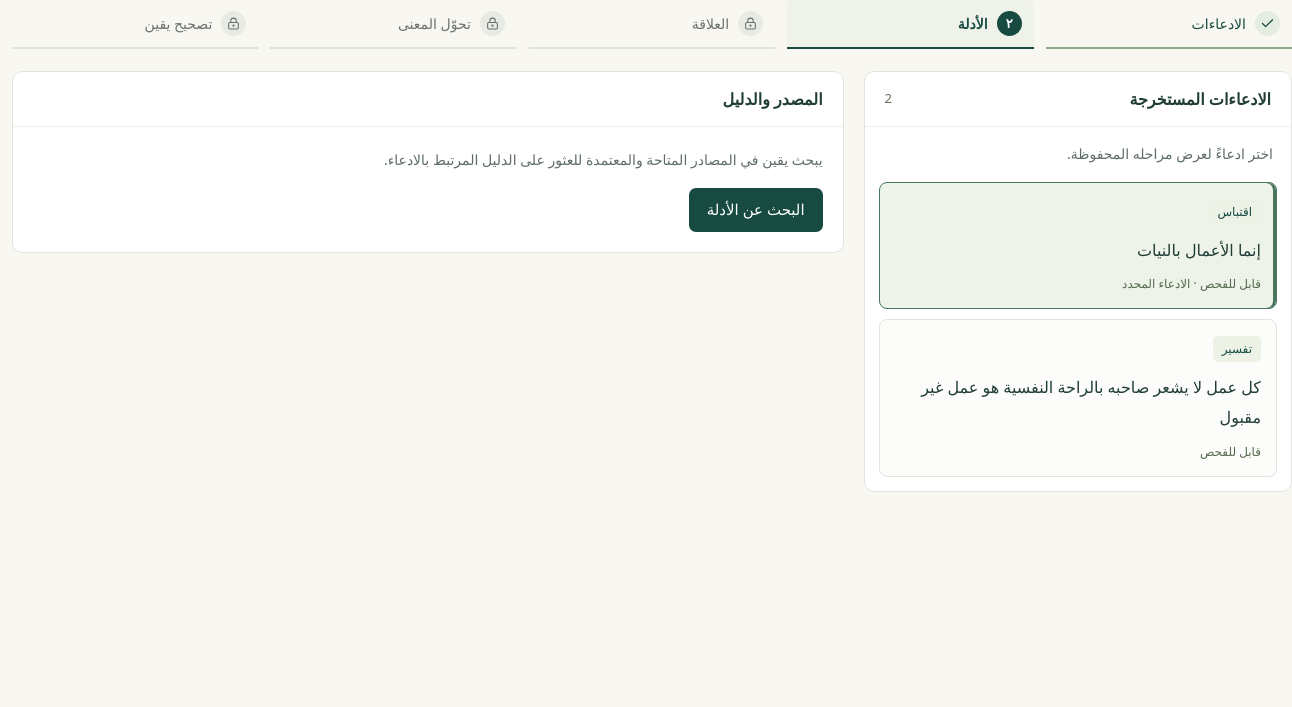
Test: keeps evidence through a reasoning failure and retries only that stage
This screenshot has width=1292, height=707.
Click the button "البحث عن الأدلة" at (756, 210), box [689,188,823,232]
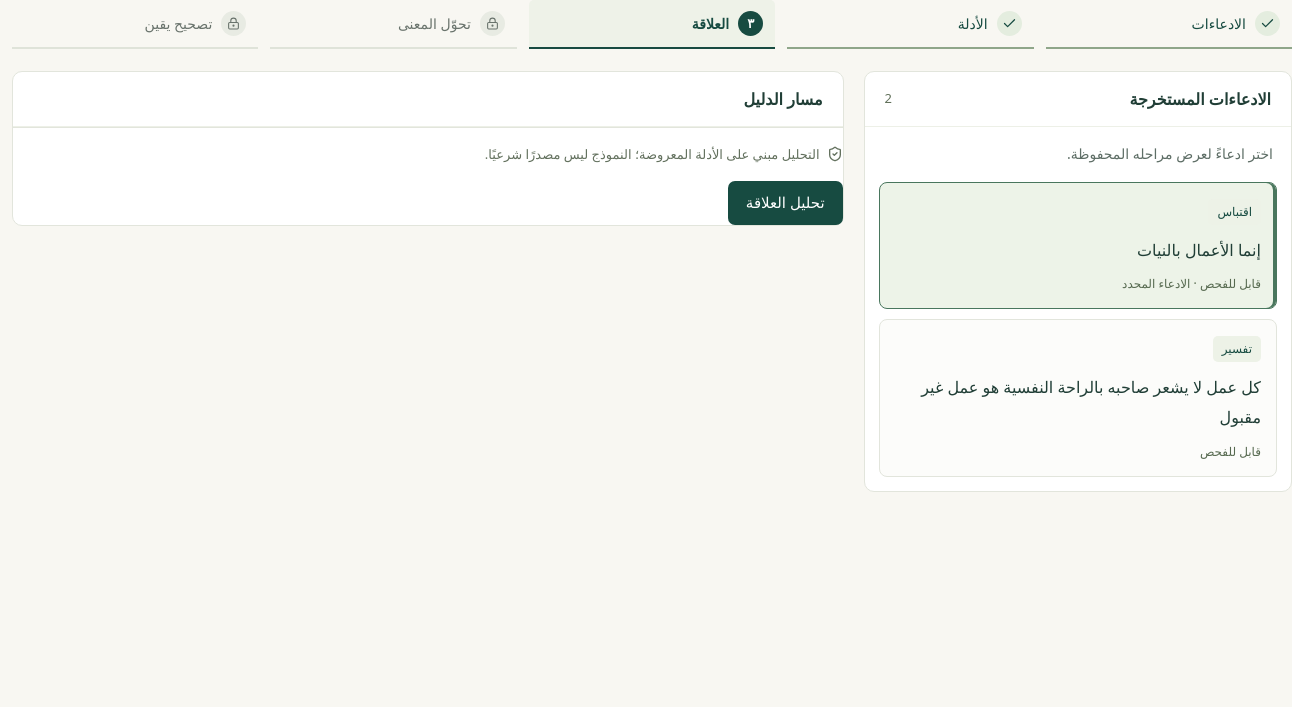
Click the button "تحليل العلاقة" at (785, 203), box [728,181,843,225]
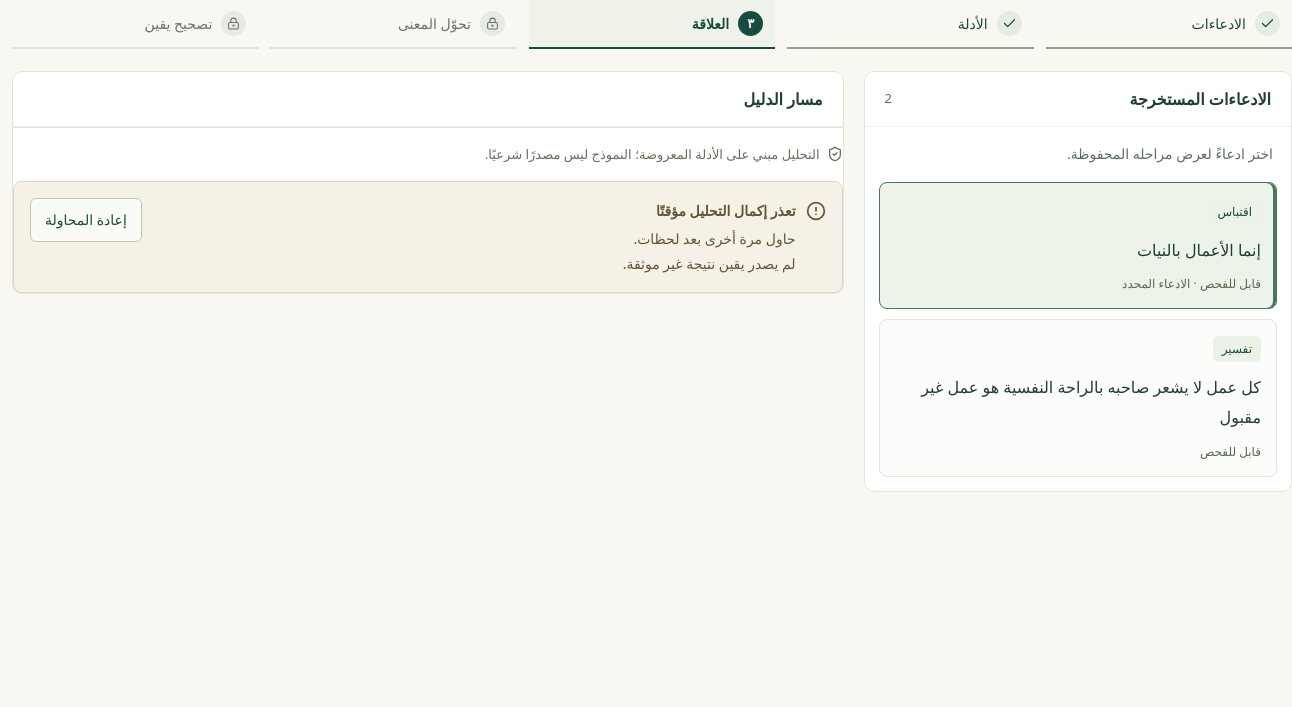
Expected: the button "الأدلة" is enabled, [799,11,1022,36]
Result: the message shows "لم يصدر يقين نتيجة غير موثقة." at [623,254,796,273]
Click the button "إعادة المحاولة" at (86, 220), box [30,198,142,242]
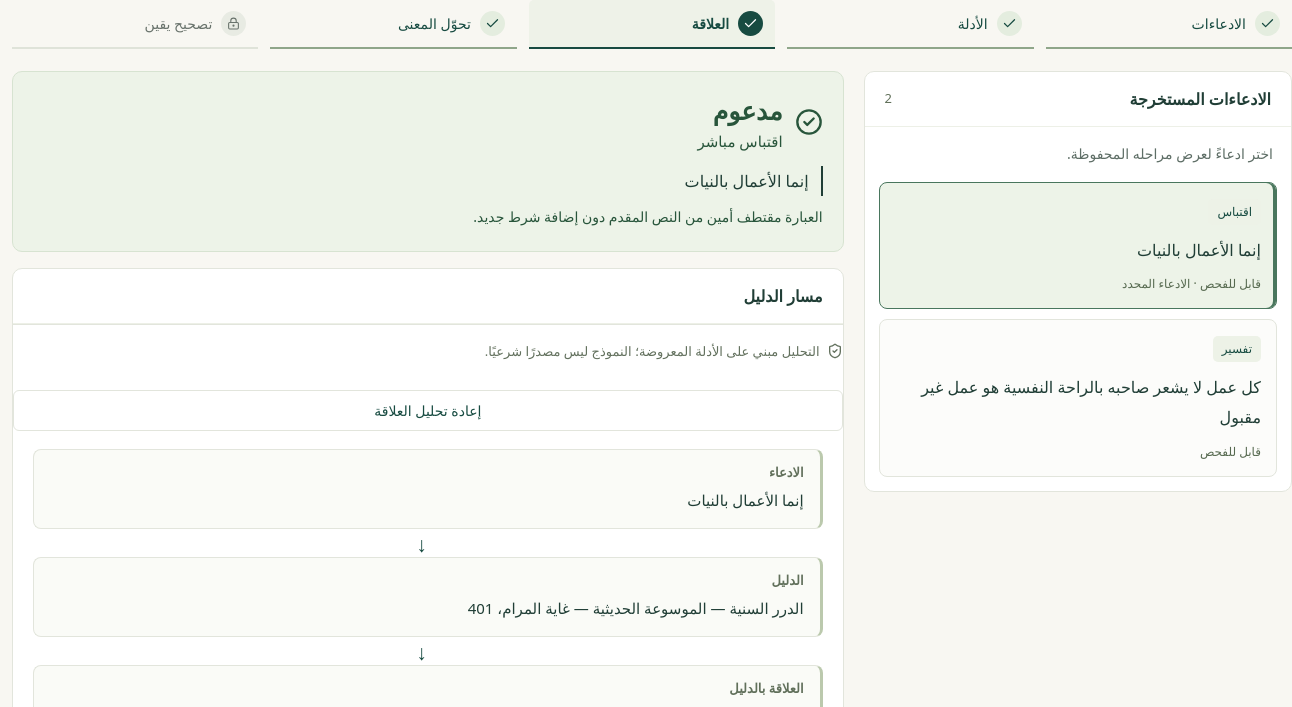
Result: the heading "مدعوم" is shown at [713,93,783,127]
Click the button "الأدلة" at (910, 24), box [799,11,1022,36]
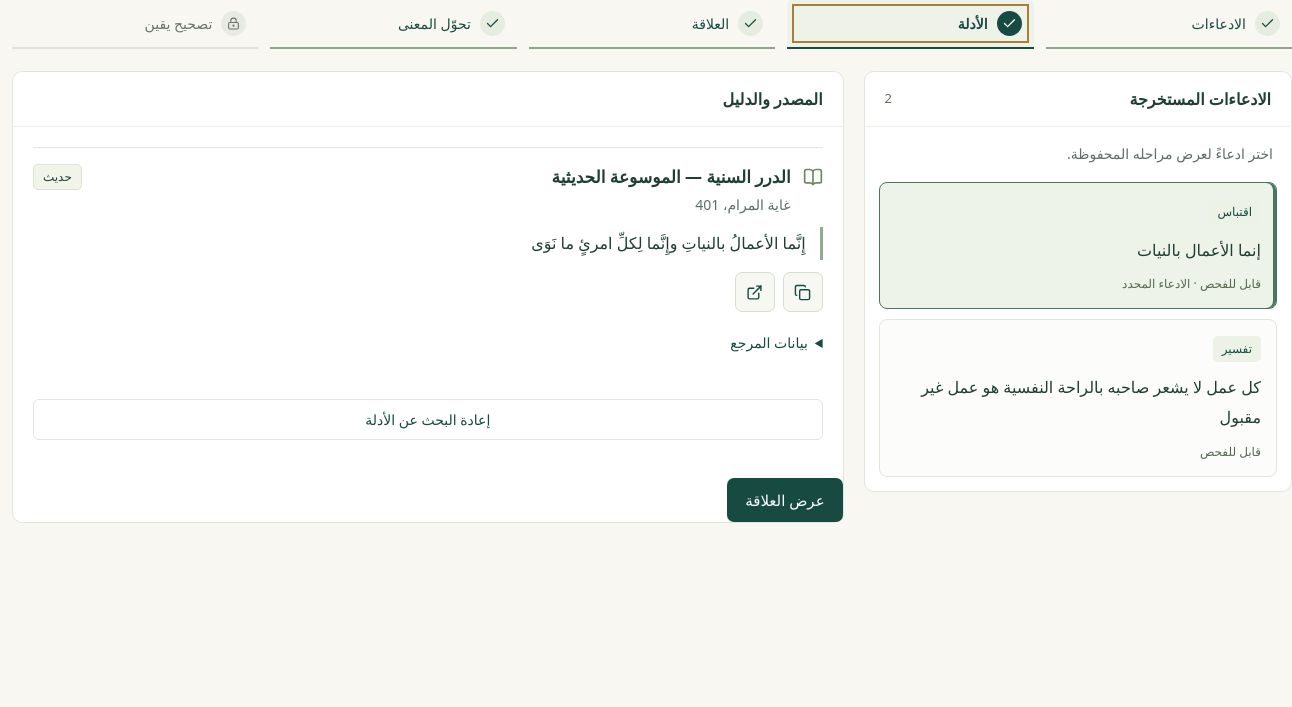
Result: the text "إِنَّما الأعمالُ بالنياتِ وإِنَّما لِكلِّ امرئٍ ما نَوَى" is shown at [33,226,823,260]
